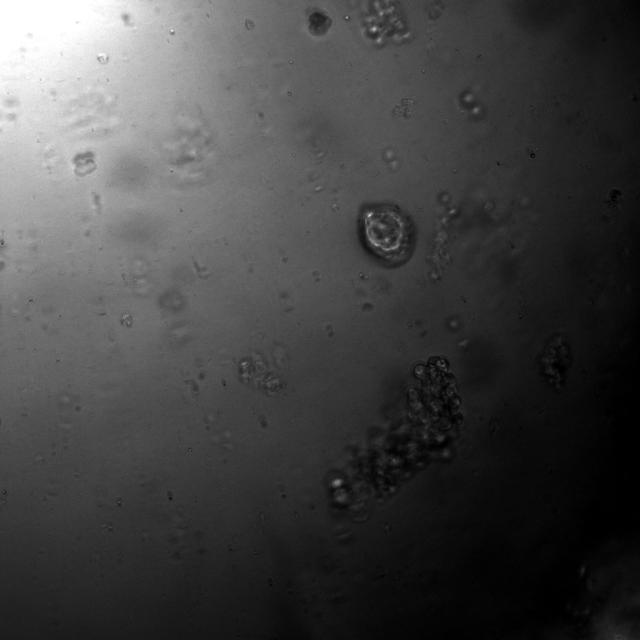organoid: (326, 356, 464, 522), (357, 202, 416, 267), (429, 192, 459, 281), (359, 0, 409, 46), (239, 352, 284, 395), (306, 8, 332, 37), (72, 150, 96, 177), (392, 97, 414, 118), (121, 314, 132, 328)
